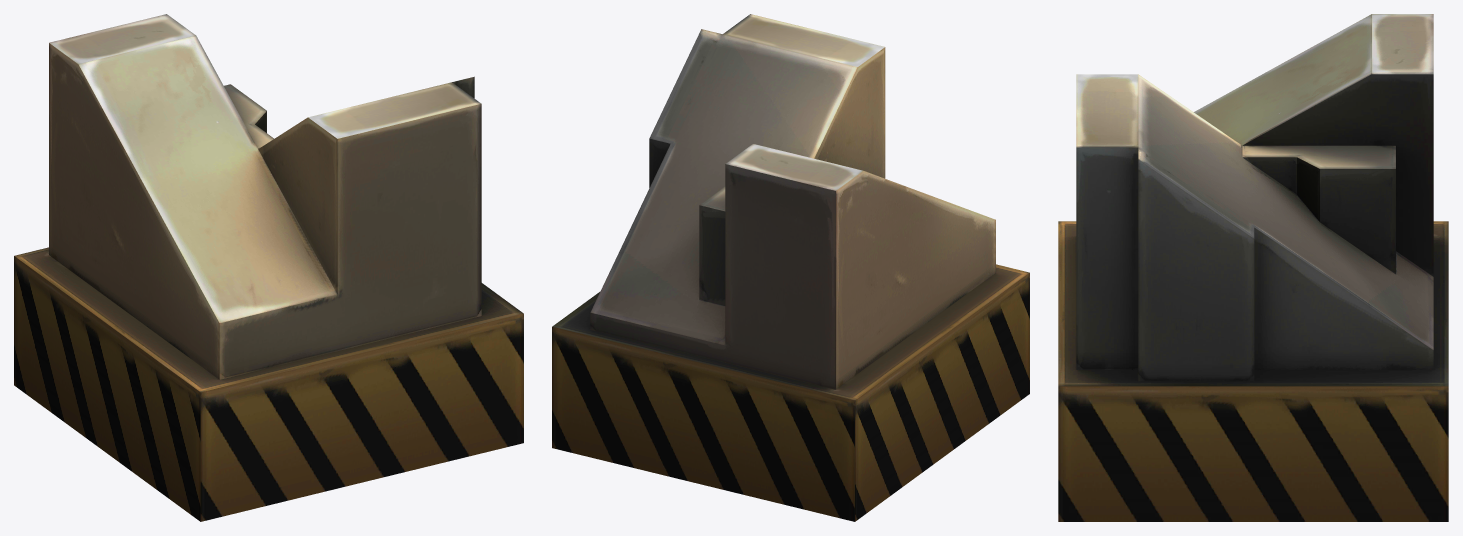
The model's file is S_yumen_stonewall.fbx.
3 views of the same model, side by side, from view 1: azimuth 30°, elevation 25°; view 2: azimuth 150°, elevation 25°; view 3: azimuth 270°, elevation 25° (orthographic). The views are drawn at different scales.
Visible parts, largest first — view 1: S_yumen_stonewall; view 2: S_yumen_stonewall; view 3: S_yumen_stonewall.
Boxes of the visible parts, x1,y1,x2,y2 form: S_yumen_stonewall: (14,14,523,521); S_yumen_stonewall: (552,14,1029,521); S_yumen_stonewall: (1058,14,1448,521).
Bounding box in the file's own units: 0.8005 × 0.8076 × 0.8005.
1 material, 1 textured.
